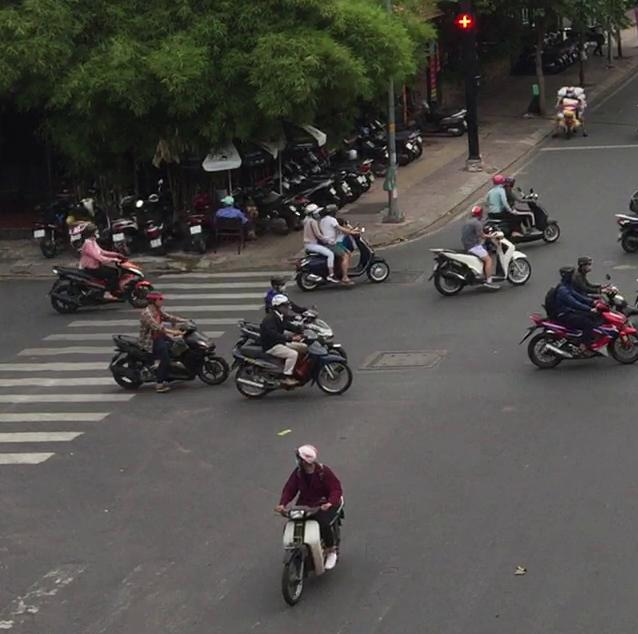Motorcycle: (108, 318, 229, 390), (273, 494, 345, 606), (427, 224, 531, 296), (291, 221, 391, 291), (46, 254, 154, 313), (479, 186, 560, 244)
